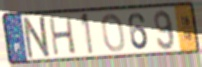1: (79, 12, 96, 57)
6: (127, 12, 150, 51)
9: (153, 8, 176, 51)
H: (47, 15, 78, 57)
N: (22, 15, 53, 61)
O: (101, 12, 127, 53)
